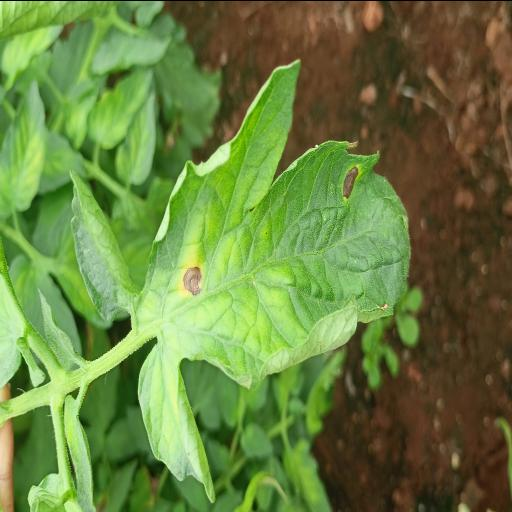Early Blight: (133, 52, 415, 502)
